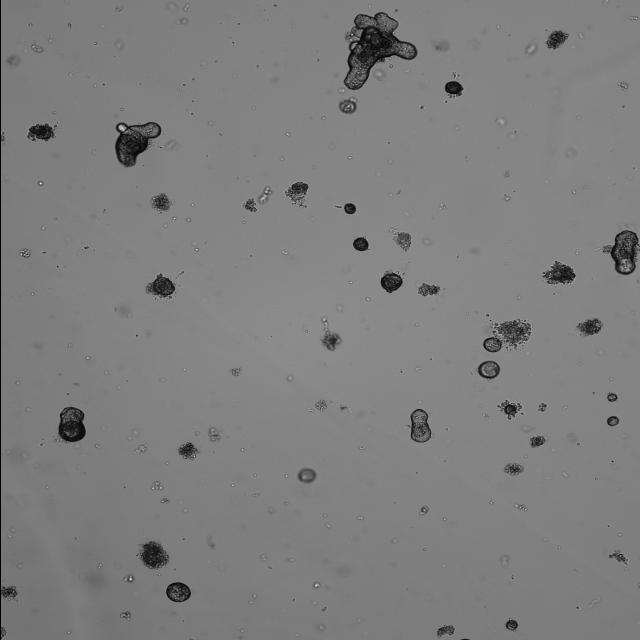alive: (340, 10, 418, 94), (114, 120, 164, 168), (604, 229, 638, 276), (52, 407, 88, 444), (400, 408, 434, 446), (164, 580, 190, 606), (376, 272, 404, 294), (474, 359, 500, 381), (296, 466, 316, 486), (336, 98, 358, 116), (481, 336, 501, 354), (353, 236, 369, 253), (342, 203, 357, 215)
dead: (132, 538, 172, 574), (542, 256, 576, 291), (144, 271, 178, 301), (495, 322, 531, 344), (280, 179, 308, 207), (316, 325, 342, 353), (540, 29, 570, 52), (388, 226, 413, 253), (25, 124, 53, 144), (572, 316, 600, 336), (172, 442, 196, 463), (497, 401, 522, 421), (149, 191, 171, 213), (416, 280, 438, 300), (0, 581, 18, 603)
